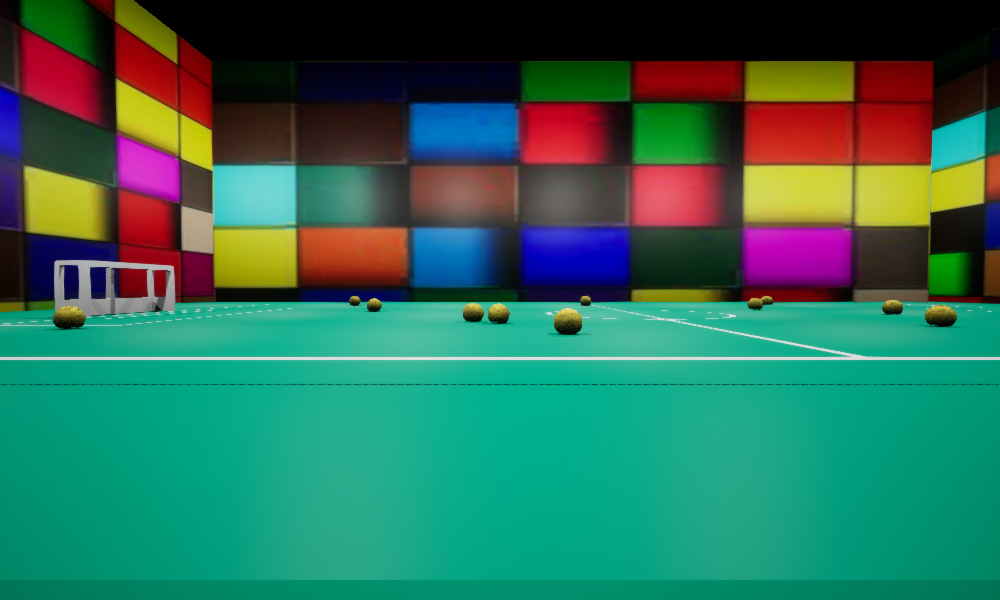b: (53, 306, 85, 328), (554, 308, 581, 333), (925, 305, 956, 326), (488, 303, 509, 322), (463, 303, 483, 321), (882, 300, 902, 314), (367, 298, 381, 310), (747, 298, 762, 309), (349, 296, 360, 305), (580, 296, 590, 305), (761, 296, 772, 304)
g: (54, 260, 174, 316)
